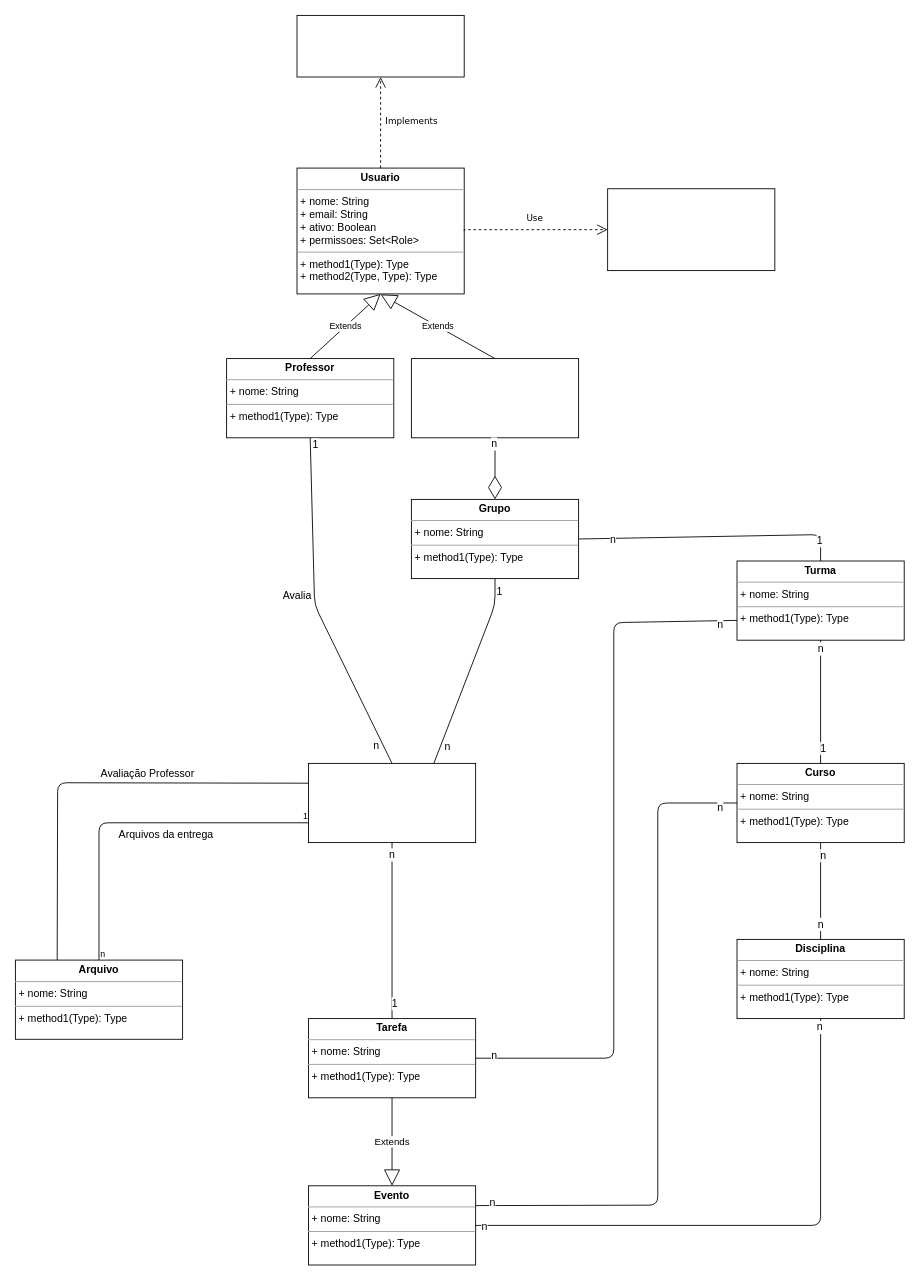
The diagram is 920 pixels wide and 1280 high, and some of its shapes have lost their labels. Each missing label, with the box of its shape:
<<Enum>> Role + nome: String + method1(Type): Type: (607, 188, 775, 271)
<<Interface>> UserDetails: (296, 15, 464, 77)
Aluno + nome: String + method1(Type): Type: (411, 358, 579, 438)
Entrega + nome: String + method1(Type): Type: (308, 763, 476, 843)
